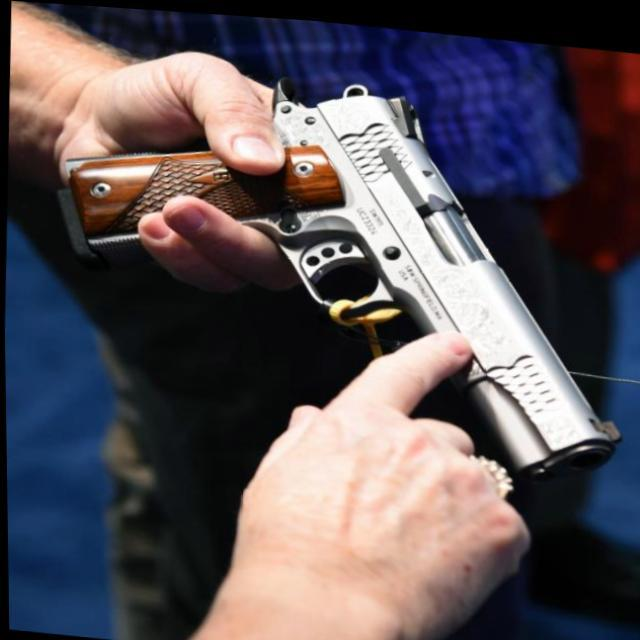weapon: (45, 49, 632, 482)
